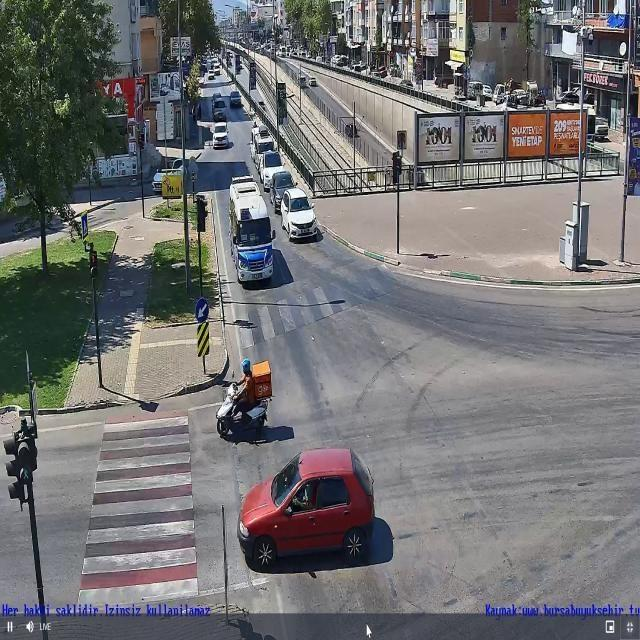Bus: (224, 174, 276, 286)
Car: (236, 448, 376, 571), (280, 187, 318, 242), (269, 171, 300, 213), (258, 149, 289, 191), (152, 157, 188, 193), (254, 134, 279, 170), (250, 128, 269, 158), (212, 122, 230, 148), (593, 116, 609, 139), (212, 101, 227, 121), (556, 92, 580, 104), (512, 88, 526, 105), (482, 81, 492, 102), (230, 90, 242, 106), (257, 124, 270, 137), (344, 124, 358, 136), (212, 92, 223, 106), (399, 80, 414, 88), (352, 65, 362, 75), (299, 75, 307, 87), (213, 63, 220, 75), (309, 76, 317, 86), (207, 69, 215, 79), (258, 100, 265, 110), (315, 56, 323, 62), (300, 52, 308, 58)
Cycle: (216, 376, 274, 436)
Van: (211, 59, 217, 68)
